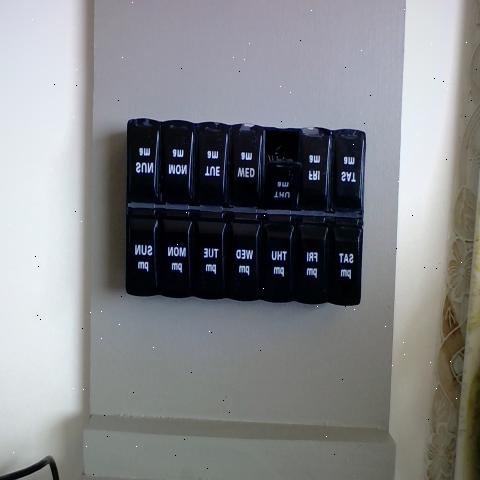FRI-am: (298, 131, 326, 210)
FRI-pm: (293, 216, 328, 302)
MON-am: (155, 124, 190, 204)
MON-pm: (156, 213, 190, 296)
Open: (262, 129, 300, 187)
PillBox: (101, 106, 379, 337)
SAT-am: (327, 132, 364, 210)
SAT-pm: (324, 221, 360, 304)
SUN-am: (126, 118, 159, 204)
SUN-pm: (125, 207, 156, 296)
THU-pm: (260, 221, 296, 299)
TUE-am: (193, 124, 224, 204)
TUE-pm: (194, 216, 225, 297)
WED-am: (225, 127, 257, 209), (229, 213, 261, 293)
